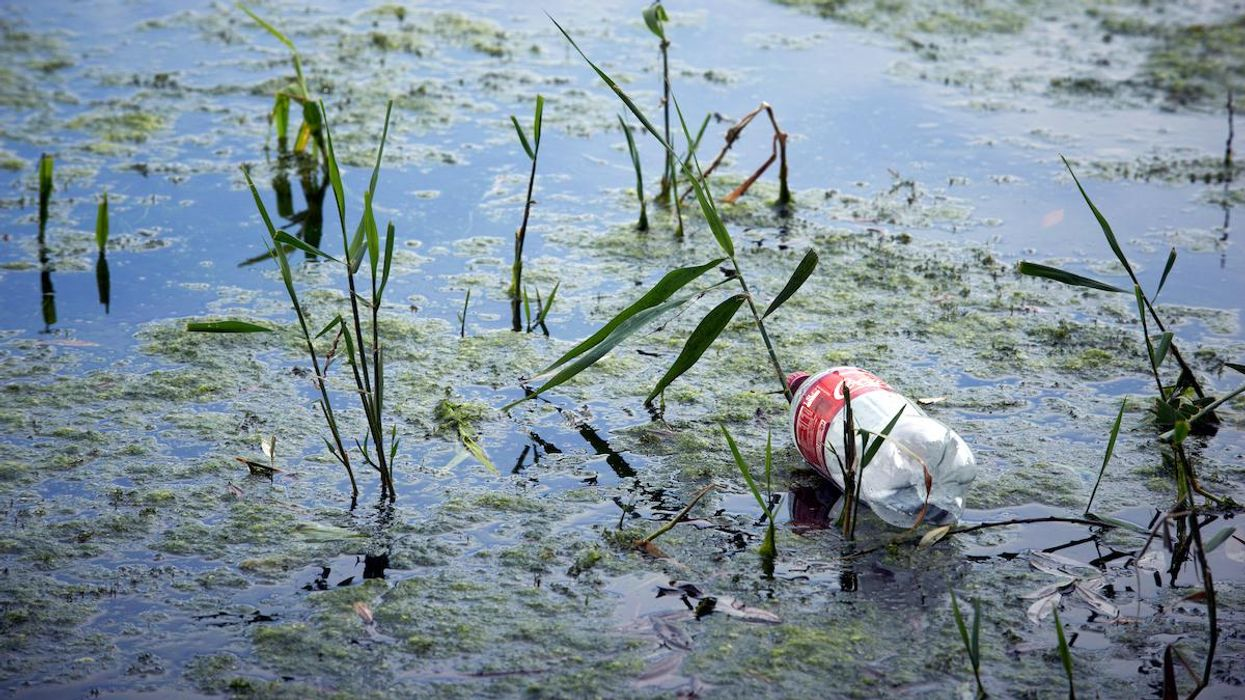plastic_bottle: (732, 274, 1093, 631)
